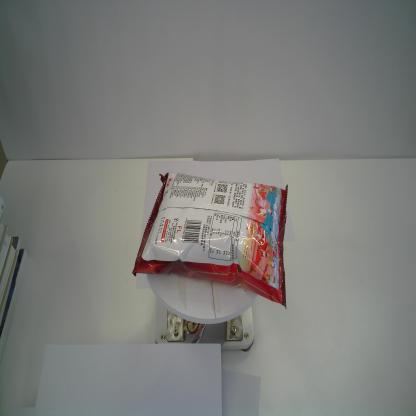Puffed Food: (132, 170, 288, 313)
